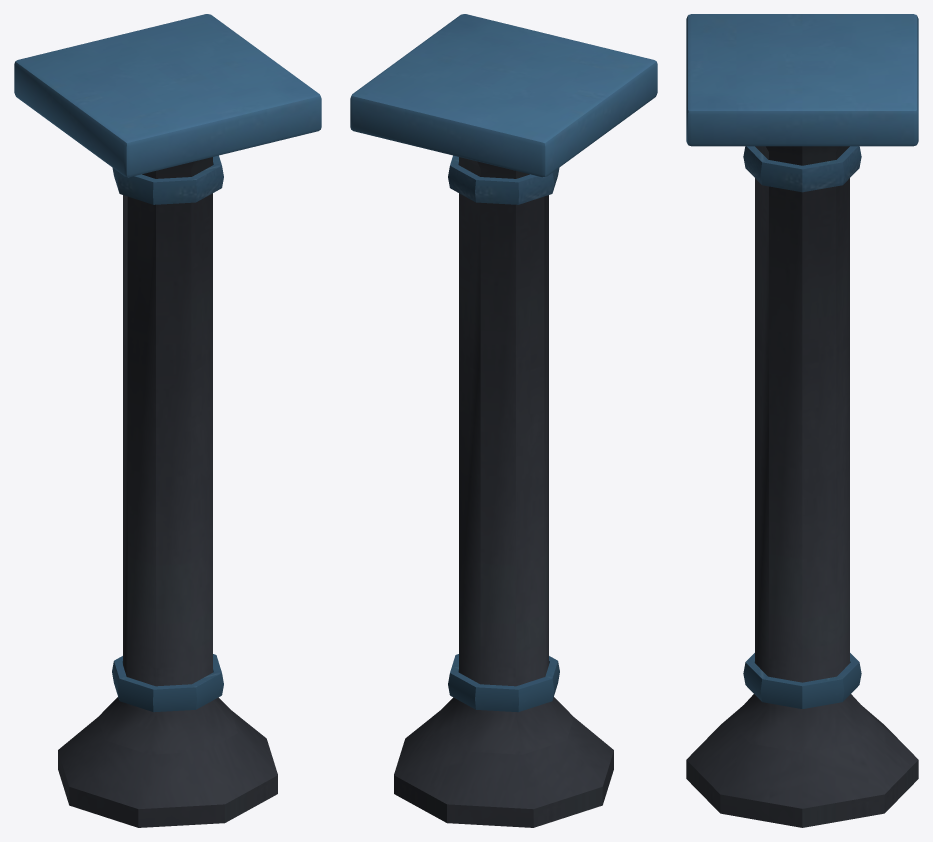
Rendered from table_support.glb.
3 views of the same model, side by side, from view 1: azimuth 30°, elevation 25°; view 2: azimuth 150°, elevation 25°; view 3: azimuth 270°, elevation 25° (orthographic).
Visible parts, largest first — view 1: TableSupportBody; view 2: TableSupportBody; view 3: TableSupportBody.
Part boxes in pixels (x1,y1,x2,y2): TableSupportBody: (14,14,321,827); TableSupportBody: (350,14,657,827); TableSupportBody: (686,14,918,827).
Size of the model in its own units: 0.22 by 0.75 by 0.22.
4 materials, 4 textured.
